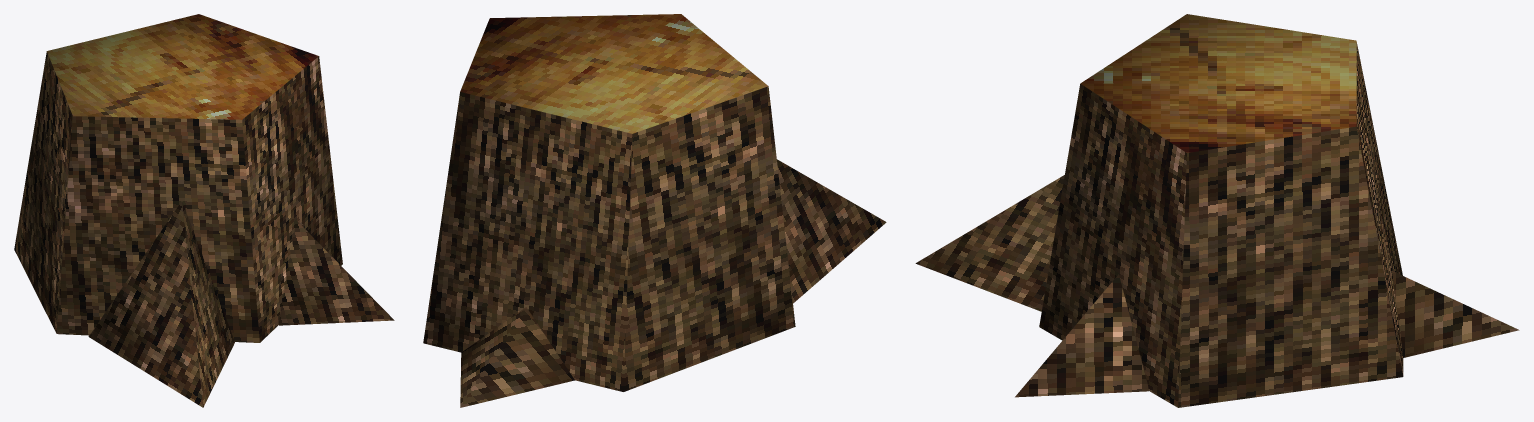
Rendered from STUMP_ACTORDEF.fbx.
3 views of the same model, side by side, from view 1: azimuth 30°, elevation 25°; view 2: azimuth 150°, elevation 25°; view 3: azimuth 270°, elevation 25° (orthographic). The views are drawn at different scales.
Parts seen in each view (by area): view 1: U3DMesh; view 2: U3DMesh; view 3: U3DMesh.
Boxes of the visible parts, x1,y1,x2,y2 form: U3DMesh: (14,14,394,407); U3DMesh: (423,14,886,407); U3DMesh: (915,14,1519,407).
Bounding box in the file's own units: 6.85 × 4.84 × 10.82.
